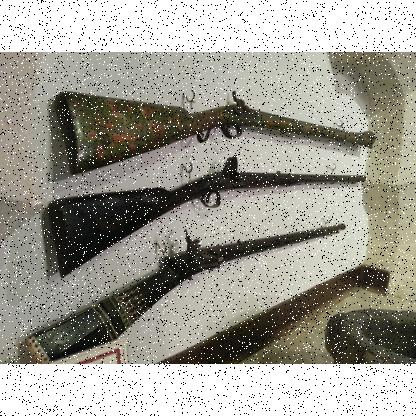gun: (23, 225, 345, 363), (46, 155, 366, 280), (53, 90, 374, 174)
